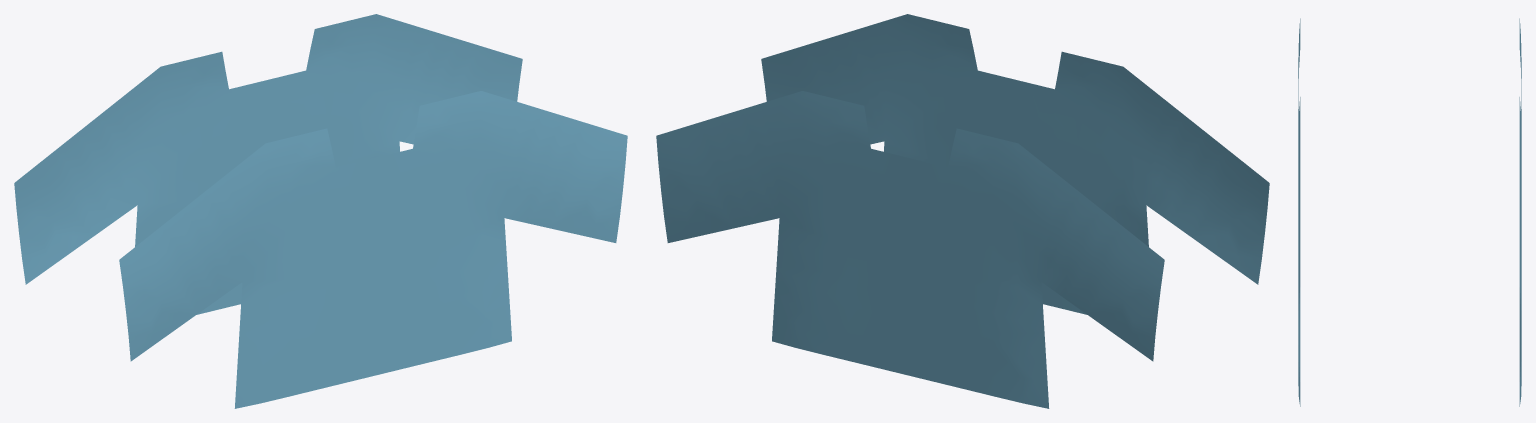
The model's file is harbor-stepped.glb.
The picture shows the model from 3 angles, left to right: view 1: azimuth 30°, elevation 25°; view 2: azimuth 150°, elevation 25°; view 3: azimuth 270°, elevation 25°; orthographic projection. The views are drawn at different scales.
Visible parts, largest first — view 1: Harbor front, Harbor back; view 2: Harbor back, Harbor front; view 3: Harbor front, Harbor back.
Boxes of the visible parts, x1,y1,x2,y2 form: Harbor front: [119, 91, 627, 408]; Harbor back: [14, 14, 522, 314]; Harbor back: [656, 91, 1164, 408]; Harbor front: [761, 14, 1269, 314]; Harbor front: [1298, 18, 1300, 406]; Harbor back: [1519, 18, 1521, 406].
Size of the model in its own units: 1.32 by 0.6399 by 0.4813.
